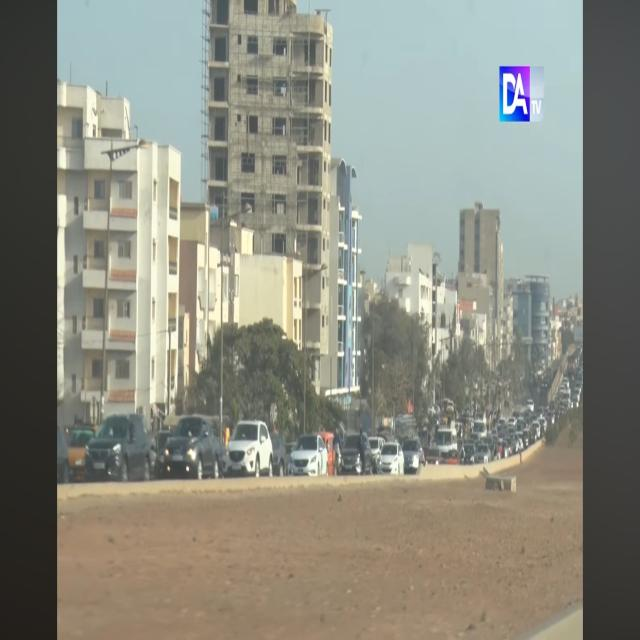ndiaga ndiaye: (438, 422, 459, 458)
particulier: (85, 412, 154, 488), (165, 415, 224, 483), (228, 419, 275, 482), (291, 433, 330, 484), (341, 432, 374, 480), (378, 443, 406, 479), (403, 440, 425, 474)
taxi: (66, 425, 98, 482)
